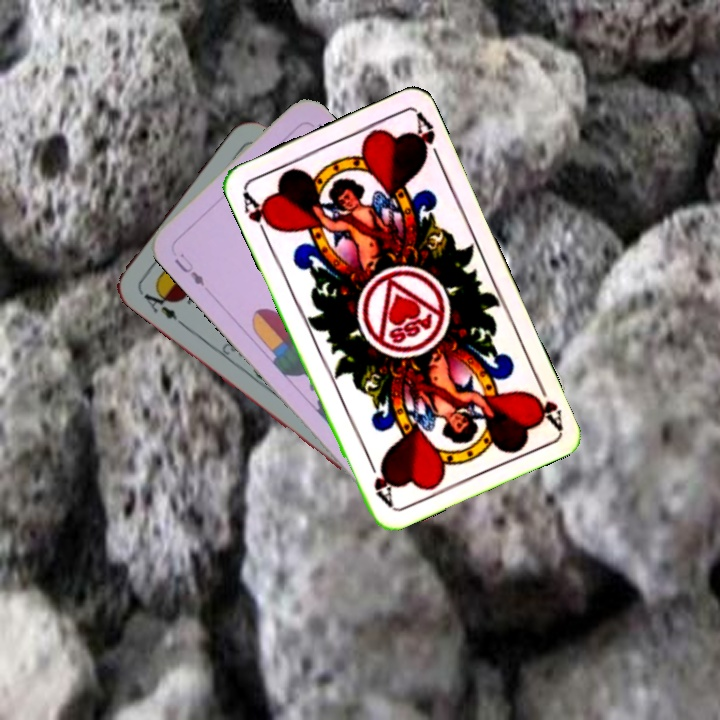EA: (135, 284, 186, 328)
EU: (170, 249, 208, 290)
HA: (523, 375, 565, 431), (238, 187, 278, 243)
